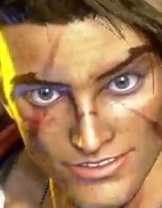kevin: (9, 4, 161, 207)
